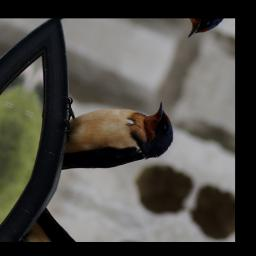Swallow: (37, 65, 186, 210)
